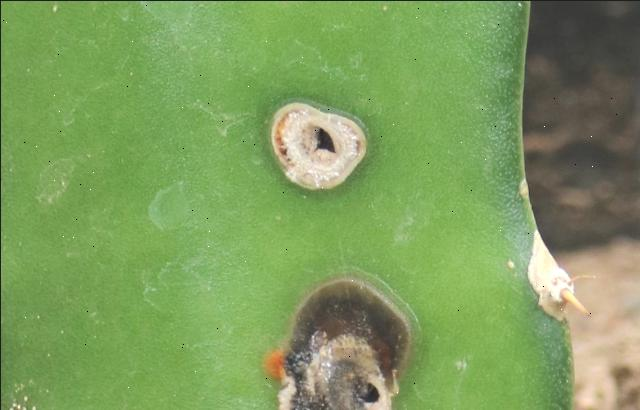stemcanker: (267, 273, 417, 410), (260, 94, 376, 201)
